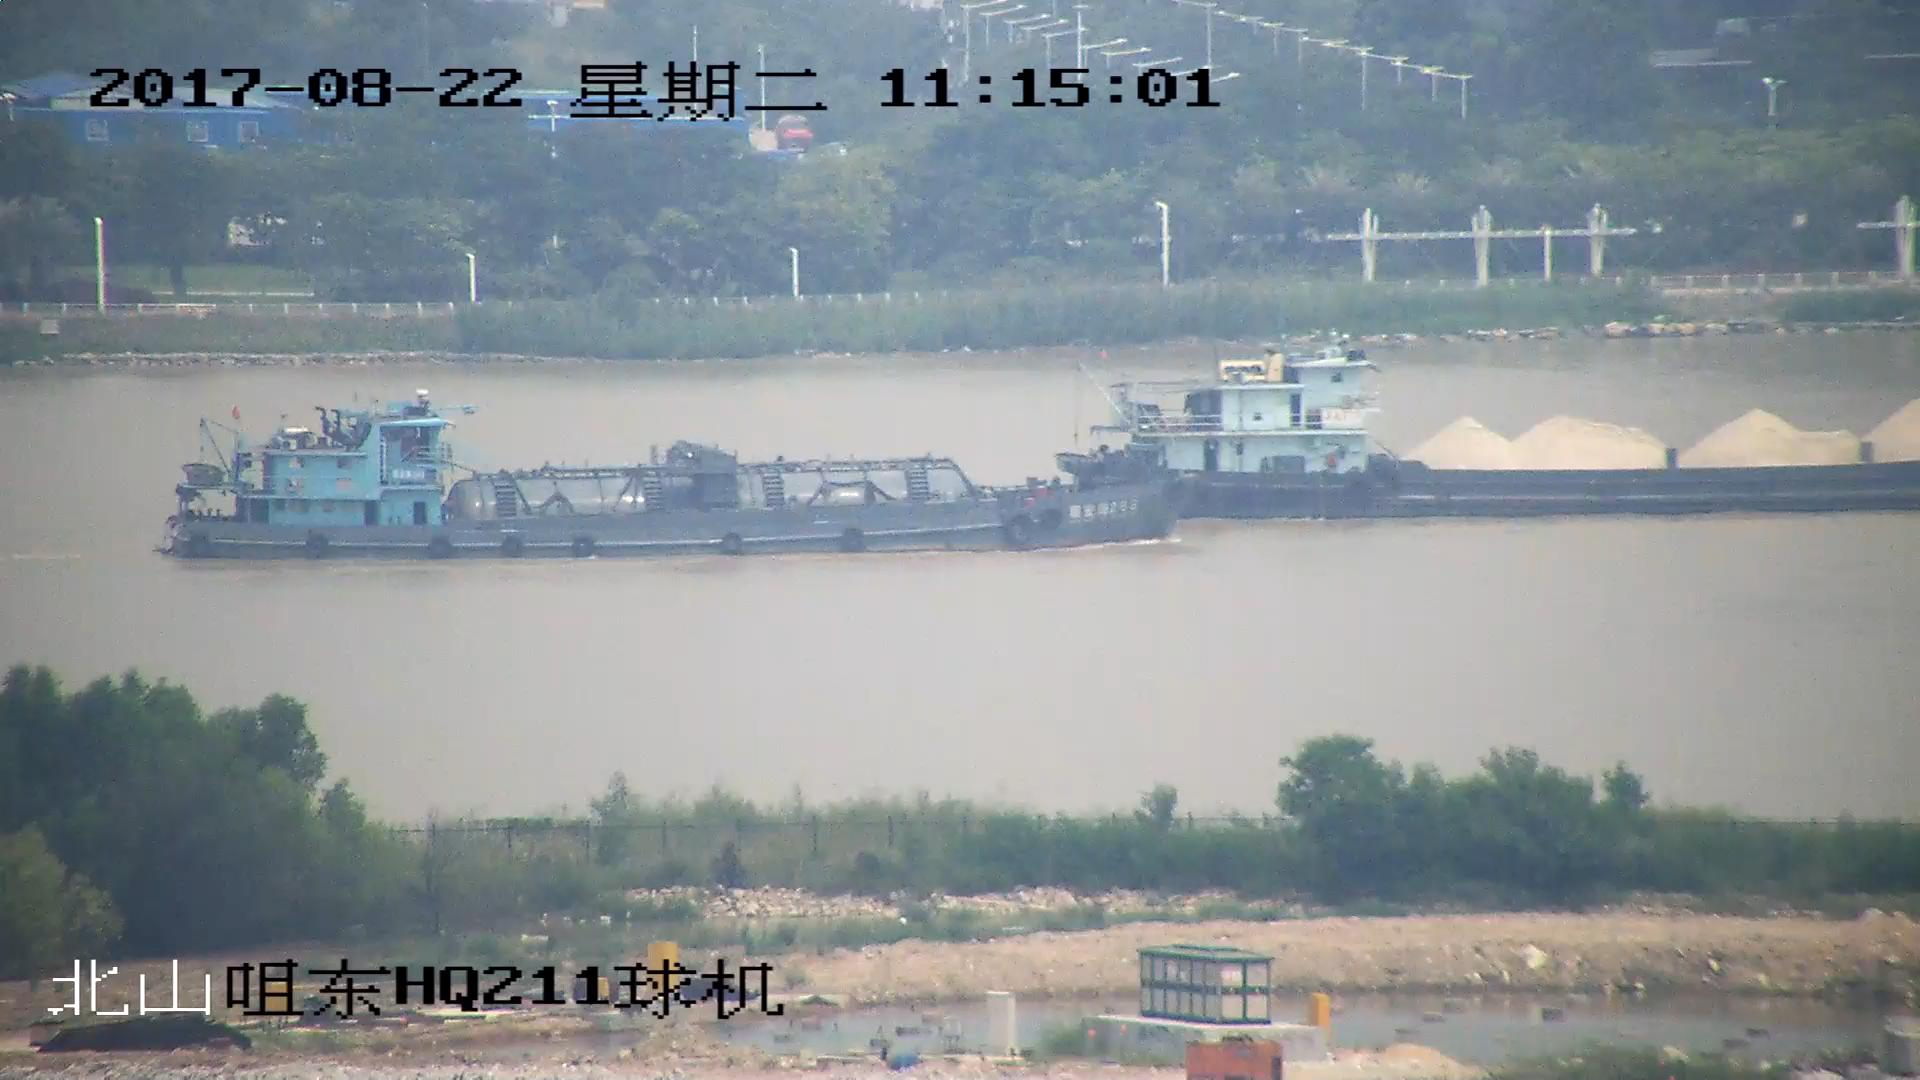bulk cargo carrier: (151, 405, 1189, 563)
ore carrier: (1065, 348, 1920, 516)
